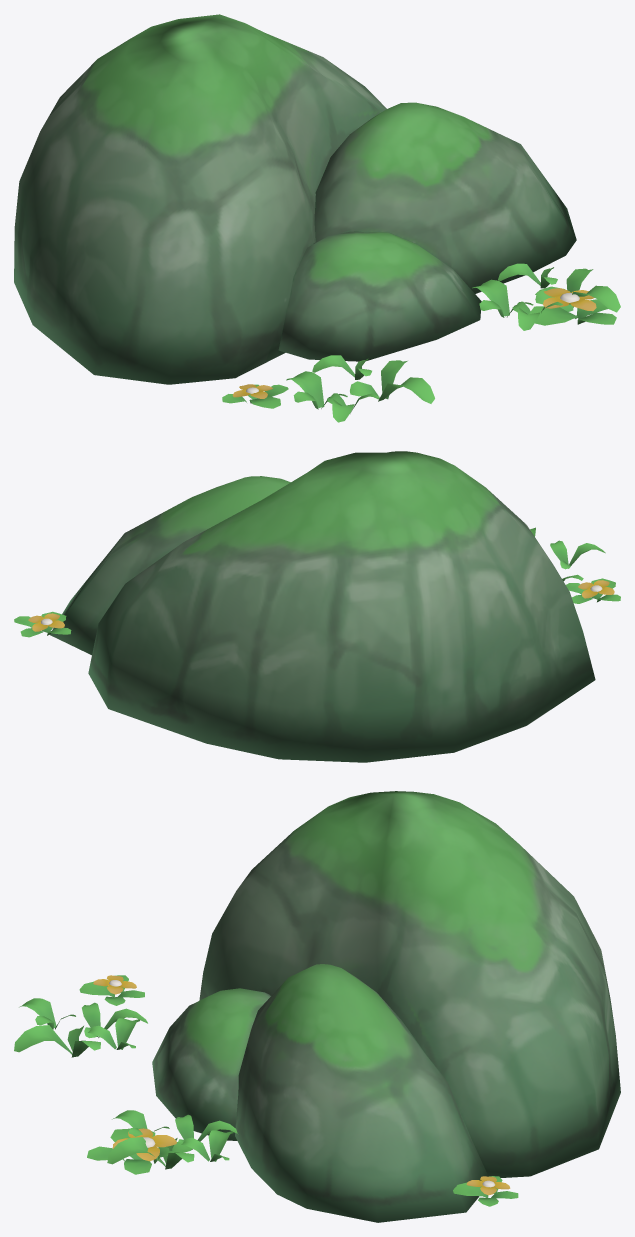
File: Stone_03.fbx
3 renders of one model, top to bottom at view 1: azimuth 30°, elevation 25°; view 2: azimuth 150°, elevation 25°; view 3: azimuth 270°, elevation 25°, orthographic. The views are drawn at different scales.
Visible parts, largest first — view 1: Stone_03; view 2: Stone_03; view 3: Stone_03.
Boxes of the visible parts, <box> form: Stone_03: <box>14,14,620,422</box>; Stone_03: <box>14,451,620,762</box>; Stone_03: <box>14,791,620,1222</box>.
Size of the model in its own units: 851 by 398 by 853.
